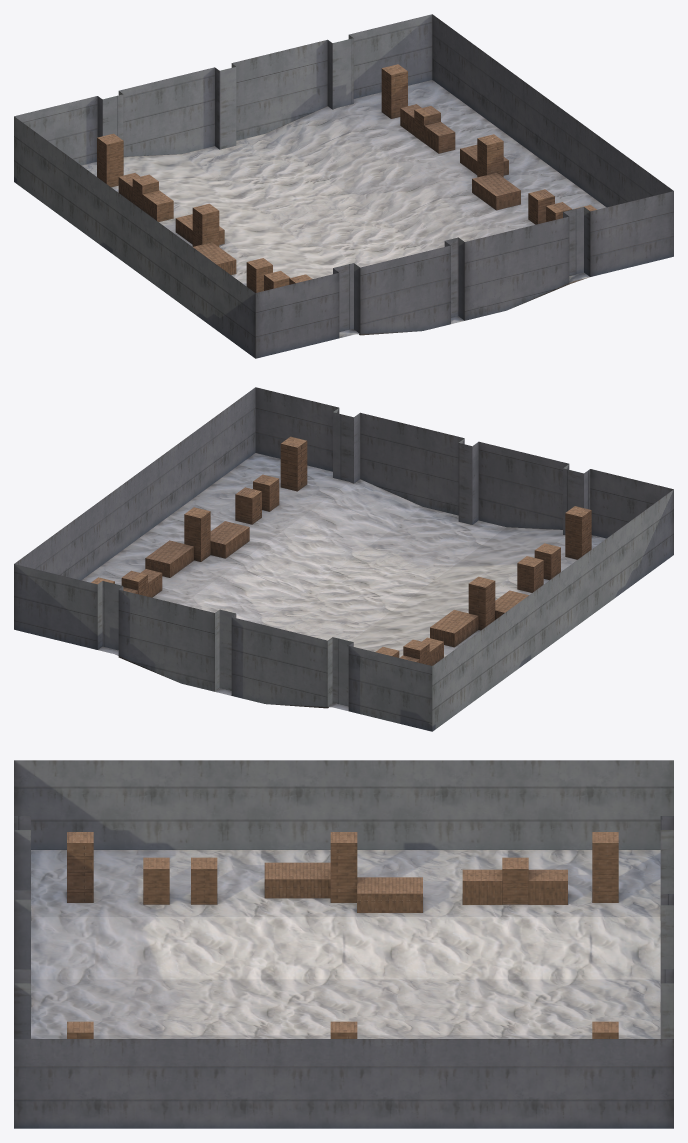
The model's file is space04-2k.glb.
The picture shows the model from 3 angles, top to bottom: view 1: azimuth 30°, elevation 25°; view 2: azimuth 150°, elevation 25°; view 3: azimuth 270°, elevation 25°; orthographic projection. The views are drawn at different scales.
Visible parts, largest first — view 1: scene_Baked; view 2: scene_Baked; view 3: scene_Baked.
Boxes of the visible parts, x1=… form: scene_Baked: x1=14, y1=14, x2=673, y2=358; scene_Baked: x1=14, y1=387, x2=673, y2=731; scene_Baked: x1=14, y1=760, x2=673, y2=1128.
Bounding box in the file's own units: 50 × 9 × 50.
Materials: 1 (1 with a texture image).
